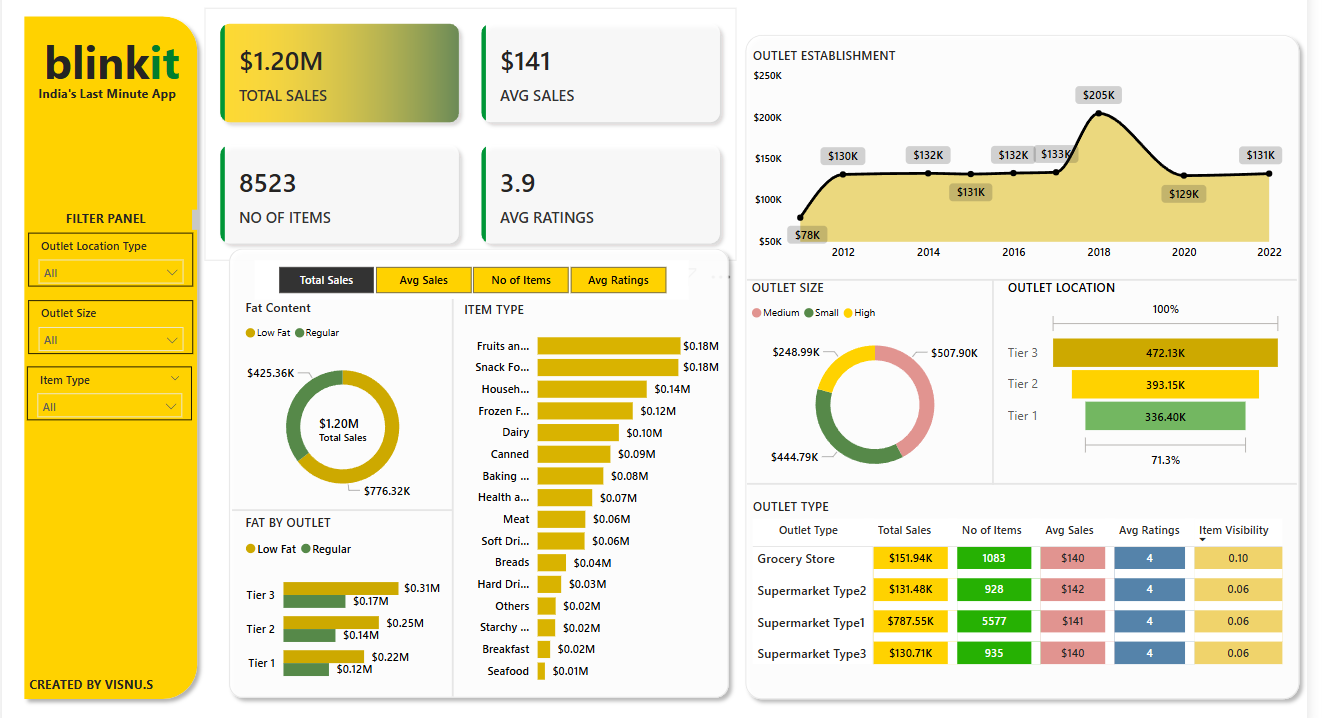

Layout of this report page (visuals, bound fields, positions):
{"tool":"powerbi","page":{"name":"Page 1","canvas":[1400,800],"ordinal":0},"visuals":[{"type":"shape","box":[14.7,25.5,203.8,750.7],"z":0},{"type":"textbox","box":[33,45,168.1,76.5],"z":1000},{"type":"textbox","box":[24,103.6,177.1,36],"z":2000},{"type":"cardVisual","fields":{"Data":["BlinkIT Grocery Data.Total Sales","BlinkIT Grocery Data.Avg Sales","BlinkIT Grocery Data.No of Items","BlinkIT Grocery Data.Avg Ratings"]},"box":[217.6,25.5,570.3,270.2],"z":3000},{"type":"shape","box":[234.1,274.7,553.8,499.8],"z":4000},{"type":"donutChart","title":" Fat Content","fields":{"Y":["BlinkIT Grocery Data.Total Sales"],"Category":["BlinkIT Grocery Data.Item Fat Content"]},"box":[256.6,337.7,219.1,229.6],"z":5000},{"type":"slicer","fields":{"Values":["Metrics.Metrics"]},"box":[270.2,295.7,465.3,42],"z":6000},{"type":"cardVisual","fields":{"Data":["BlinkIT Grocery Data.Total Sales"]},"box":[322.7,439.8,103.6,75],"z":7000},{"type":"clusteredBarChart","title":"FAT BY OUTLET","fields":{"Y":["BlinkIT Grocery Data.Total Sales"],"Category":["BlinkIT Grocery Data.Outlet Location Type"],"Series":["BlinkIT Grocery Data.Item Fat Content"]},"box":[256.6,568.8,219.1,195.1],"z":8000},{"type":"shape","box":[246.1,558.3,237.1,10.5],"z":9000},{"type":"shape","box":[475.8,337.7,15,426.2],"z":10000},{"type":"barChart","title":"ITEM TYPE","fields":{"Category":["BlinkIT Grocery Data.Item Type"],"Y":["BlinkIT Grocery Data.Total Sales"]},"box":[490.8,339.2,283.7,421.7],"z":10001},{"type":"shape","box":[788,45,612.4,730.9],"z":10002},{"type":"lineChart","title":"OUTLET ESTABLISHMENT","fields":{"Y":["BlinkIT Grocery Data.Total Sales"],"Category":["BlinkIT Grocery Data.Outlet Establishment Year"]},"box":[800,67.5,577.8,238.6],"z":10003},{"type":"shape","box":[798.5,315.2,589.8,4.5],"z":10004},{"type":"donutChart","title":"OUTLET SIZE","fields":{"Y":["BlinkIT Grocery Data.Total Sales"],"Category":["BlinkIT Grocery Data.Outlet Size"]},"box":[798.5,316.7,274.7,225.1],"z":10005},{"type":"shape","box":[1052.1,316.7,21,220.6],"z":10006},{"type":"funnel","title":"OUTLET LOCATION","fields":{"Y":["Sum(BlinkIT Grocery Data.Sales)"],"Category":["BlinkIT Grocery Data.Outlet Location Type"]},"box":[1073.1,316.7,304.7,208.6],"z":10007},{"type":"shape","box":[798.5,531.3,589.8,10.5],"z":10008},{"type":"pivotTable","title":"OUTLET TYPE","fields":{"Rows":["BlinkIT Grocery Data.Outlet Type"],"Values":["BlinkIT Grocery Data.Total Sales","BlinkIT Grocery Data.No of Items","BlinkIT Grocery Data.Avg Sales","BlinkIT Grocery Data.Avg Ratings","Avg(BlinkIT Grocery Data.Item Visibility)"]},"box":[800,550.8,589.8,201.1],"z":10009},{"type":"slicer","fields":{"Values":["BlinkIT Grocery Data.Outlet Location Type"]},"box":[28.2,266.8,176.9,57.6],"z":10010},{"type":"slicer","fields":{"Values":["BlinkIT Grocery Data.Outlet Size"]},"box":[28.2,339.1,176.9,57.6],"z":10011},{"type":"slicer","fields":{"Values":["BlinkIT Grocery Data.Item Type"]},"box":[26.8,410.2,176.9,57.6],"z":10012},{"type":"textbox","box":[13.4,237.3,203.8,37.5],"z":10013},{"type":"textbox","box":[24.1,737.3,155.5,38.9],"z":10014}]}

Visuals, with their boxes on the page's 1400x800 design canvas (x1, y1, x2, y2). These are canvas units, not pixel positions in the 1322x718 screenshot, which may show the page scaled, cropped or inside an application window:
shape: 15,26,218,776
textbox: 33,45,201,122
textbox: 24,104,201,140
cardVisual - BlinkIT Grocery Data.Total Sales x BlinkIT Grocery Data.Avg Sales: 218,26,788,296
shape: 234,275,788,774
" Fat Content" donutChart: 257,338,476,567
slicer - Metrics.Metrics: 270,296,736,338
cardVisual - BlinkIT Grocery Data.Total Sales: 323,440,426,515
"FAT BY OUTLET" clusteredBarChart: 257,569,476,764
shape: 246,558,483,569
shape: 476,338,491,764
"ITEM TYPE" barChart: 491,339,774,761
shape: 788,45,1400,776
"OUTLET ESTABLISHMENT" lineChart: 800,68,1378,306
shape: 798,315,1388,320
"OUTLET SIZE" donutChart: 798,317,1073,542
shape: 1052,317,1073,537
"OUTLET LOCATION" funnel: 1073,317,1378,525
shape: 798,531,1388,542
"OUTLET TYPE" pivotTable: 800,551,1390,752
slicer - BlinkIT Grocery Data.Outlet Location Type: 28,267,205,324
slicer - BlinkIT Grocery Data.Outlet Size: 28,339,205,397
slicer - BlinkIT Grocery Data.Item Type: 27,410,204,468
textbox: 13,237,217,275
textbox: 24,737,180,776
